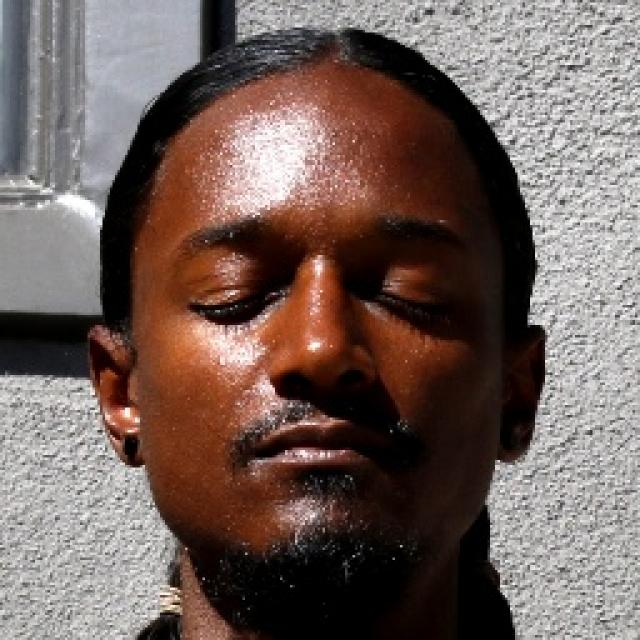earlobe: (87, 328, 146, 467), (497, 324, 549, 464)
